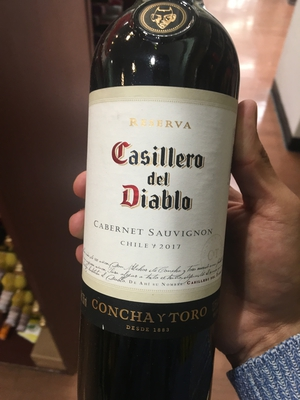casillero del diablo cabernet sauvignon: (80, 6, 236, 400)
